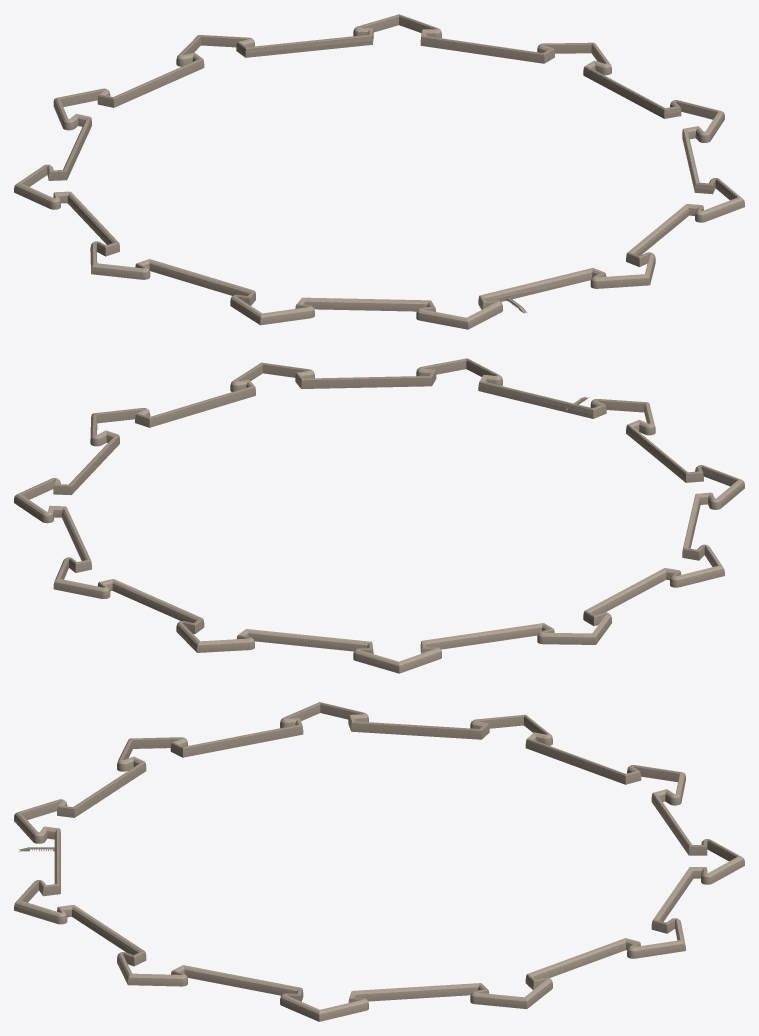
Rendered from Walls.glb.
3 views of the same model, one above another, from view 1: azimuth 30°, elevation 25°; view 2: azimuth 150°, elevation 25°; view 3: azimuth 270°, elevation 25° (orthographic).
Visible parts, largest first — view 1: ASM - PBR Metallic Roughness; view 2: ASM - PBR Metallic Roughness; view 3: ASM - PBR Metallic Roughness.
Boxes of the visible parts, left/top/right/bottom form: ASM - PBR Metallic Roughness: left=14, top=14, right=744, bottom=329; ASM - PBR Metallic Roughness: left=14, top=358, right=744, bottom=673; ASM - PBR Metallic Roughness: left=14, top=702, right=744, bottom=1021.
Size of the model in its own units: 1582 by 22.31 by 1565.
1 material, 1 textured.
